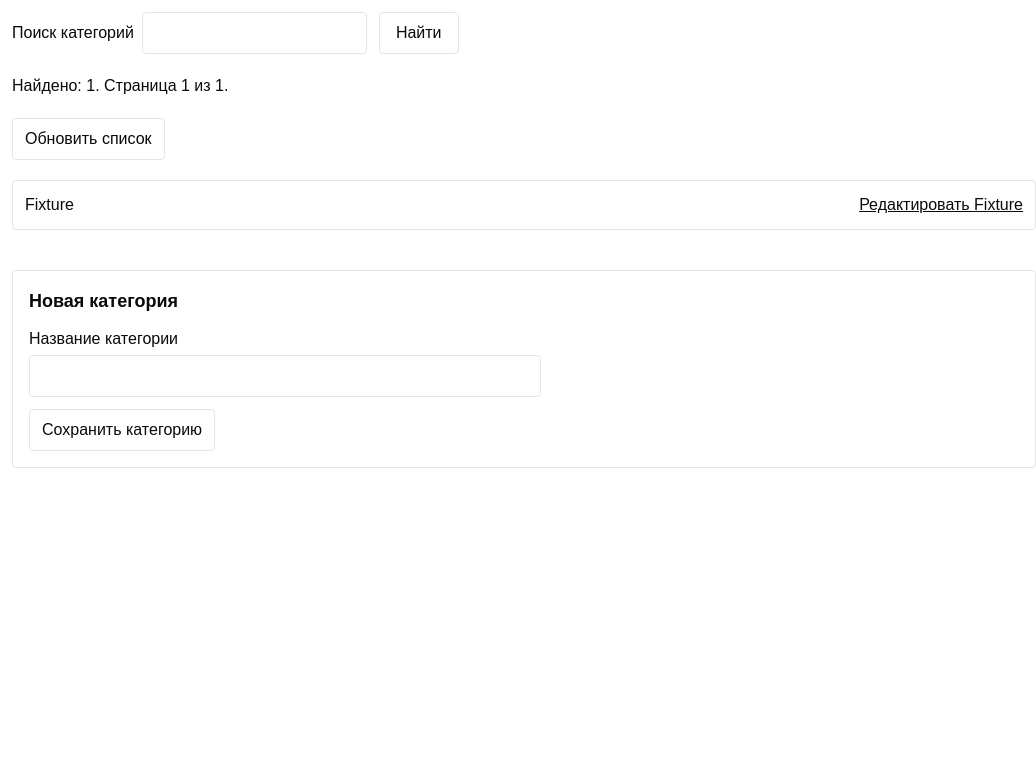
Test: Category management UI › requires explicit deletion confirmation and sends the selected revision
Click the button "Редактировать Fixture" at (941,205), box [859,193,1023,217]
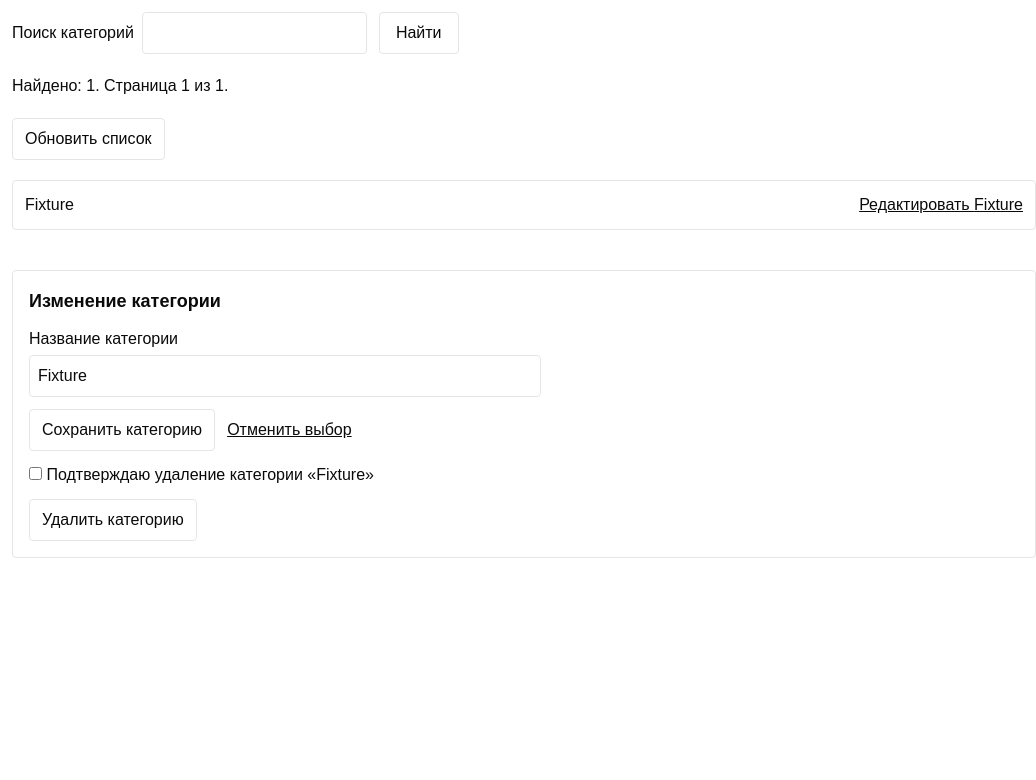
Expected: the button "Удалить категорию" is disabled, [29,499,197,541]
Click the checkbox at (36,474), box [29,467,42,480]
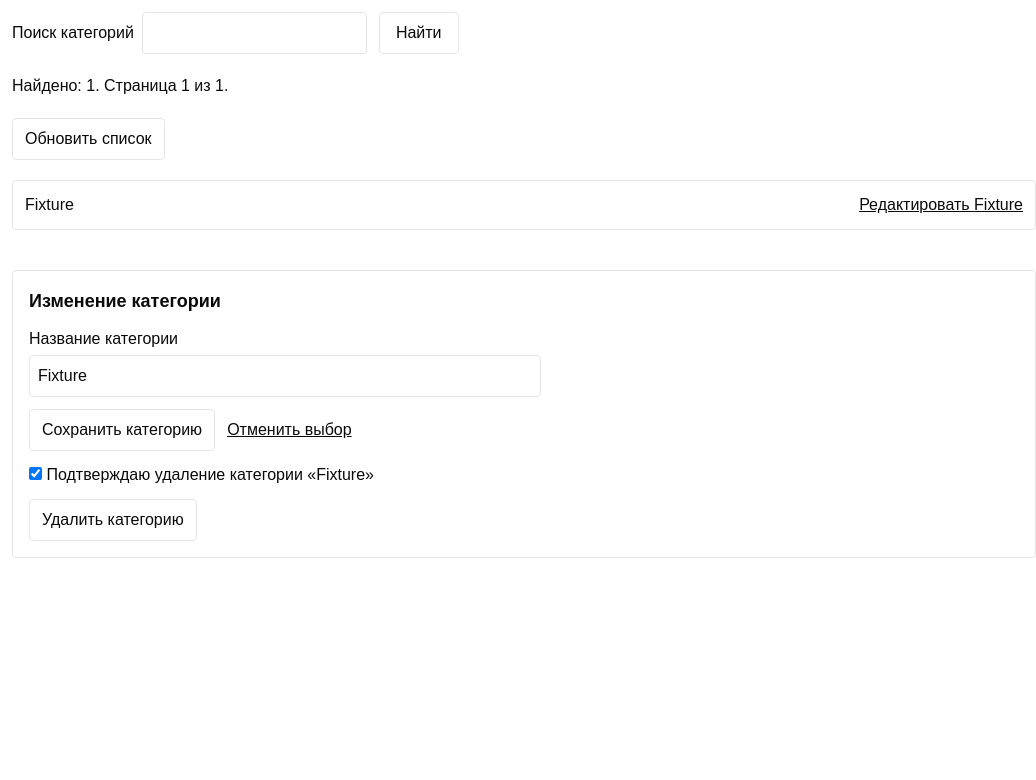
Click the button "Удалить категорию" at (113,520), box [29,499,197,541]
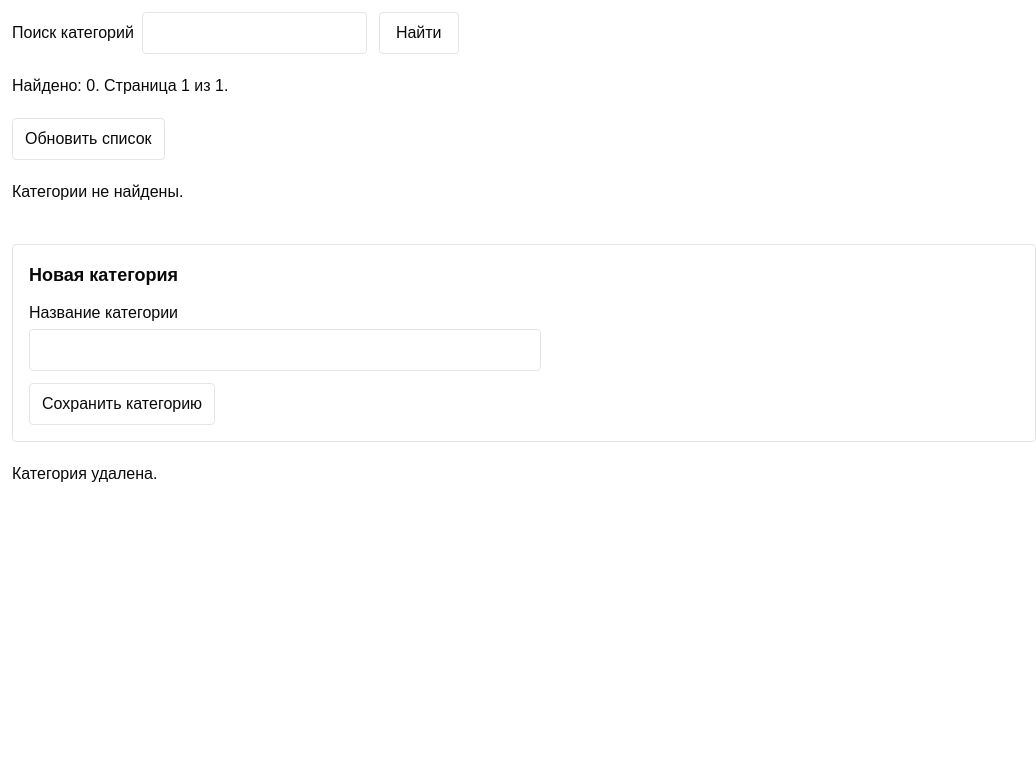
Expected: the text "Категория удалена." is shown, [12,465,157,482]
